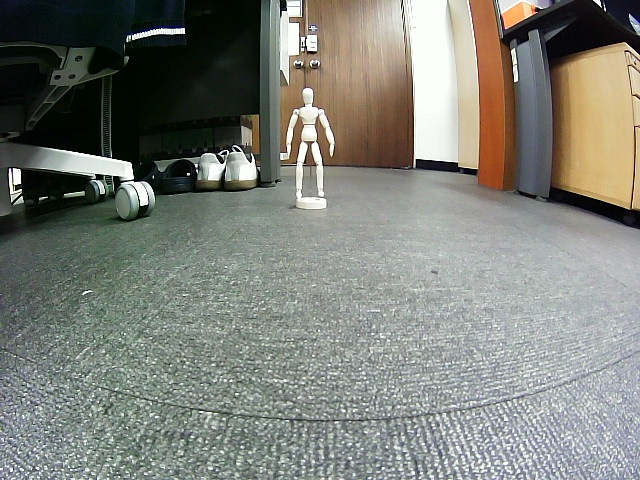person: (285, 88, 334, 198)
